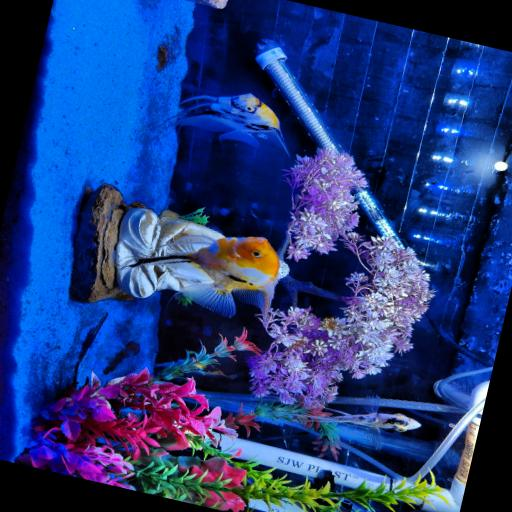Fish: (131, 235, 278, 317), (176, 94, 288, 155), (309, 405, 419, 449), (311, 410, 419, 431)
